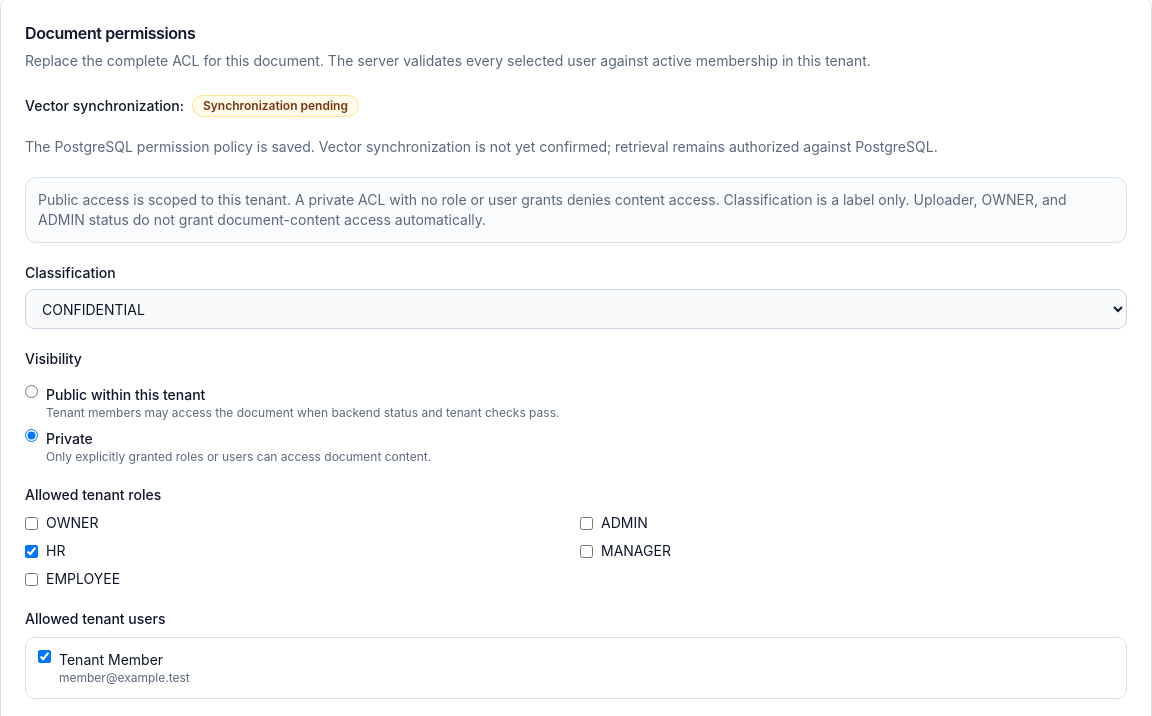
permission editor › retains edits after reconciliation GET failure and allows manual reload without retrying PUT
Select "INTERNAL" in the dropdown labelled "Classification" at [576, 309], box [25, 289, 1127, 329]
(page scrolled)
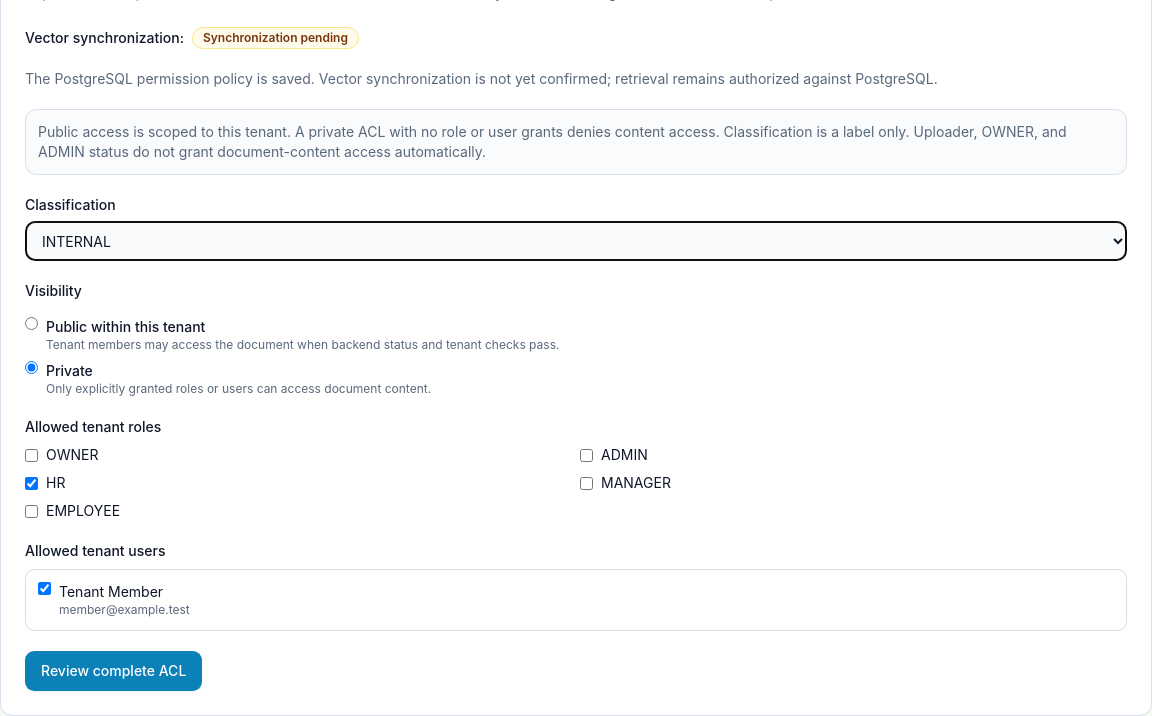
Click the button "Review complete ACL" at [114, 671], box [25, 651, 202, 691]
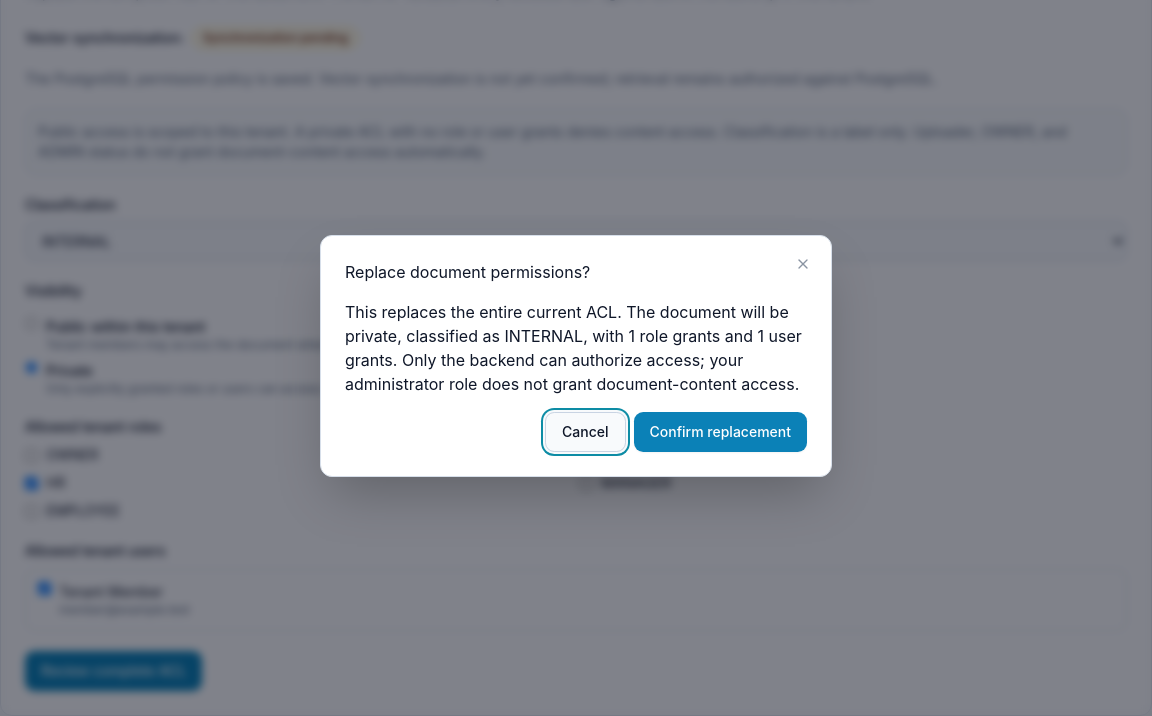
Click the button "Confirm replacement" at [720, 432], box [634, 412, 807, 452]
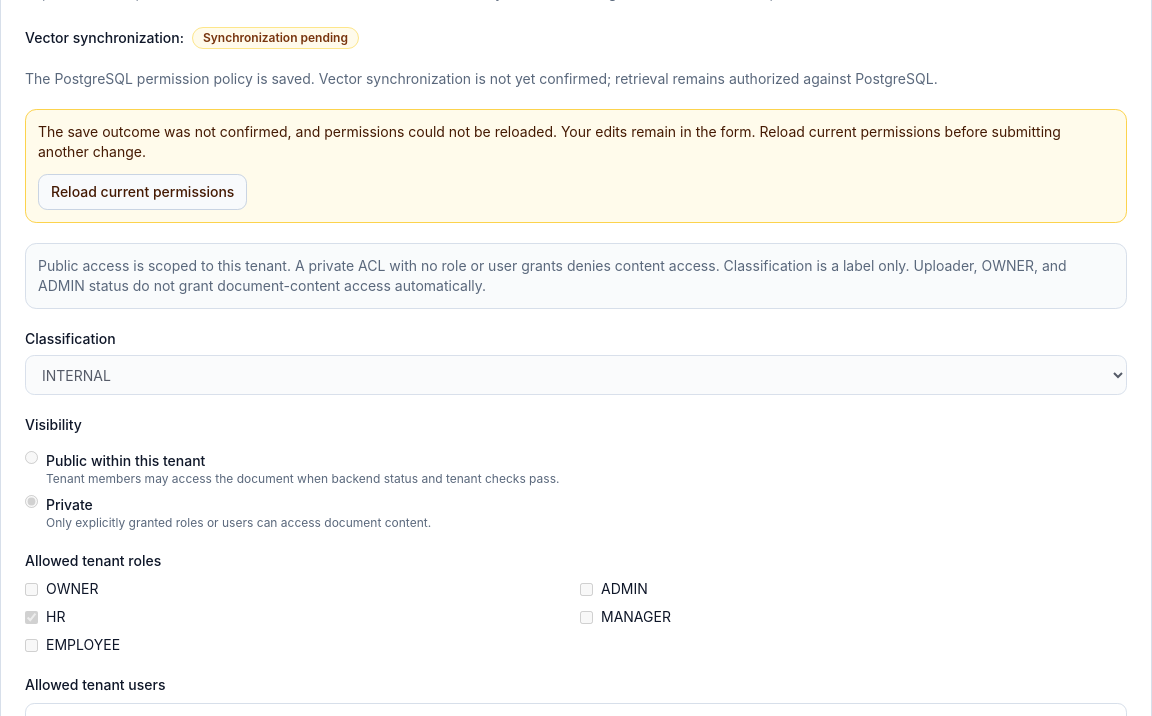
Expected: the button "Reload current permissions" is shown
Expected: the text "Your edits remain in the form" is shown, [38, 123, 1061, 160]
Click the button "Reload current permissions" at [143, 192], box [38, 174, 247, 210]
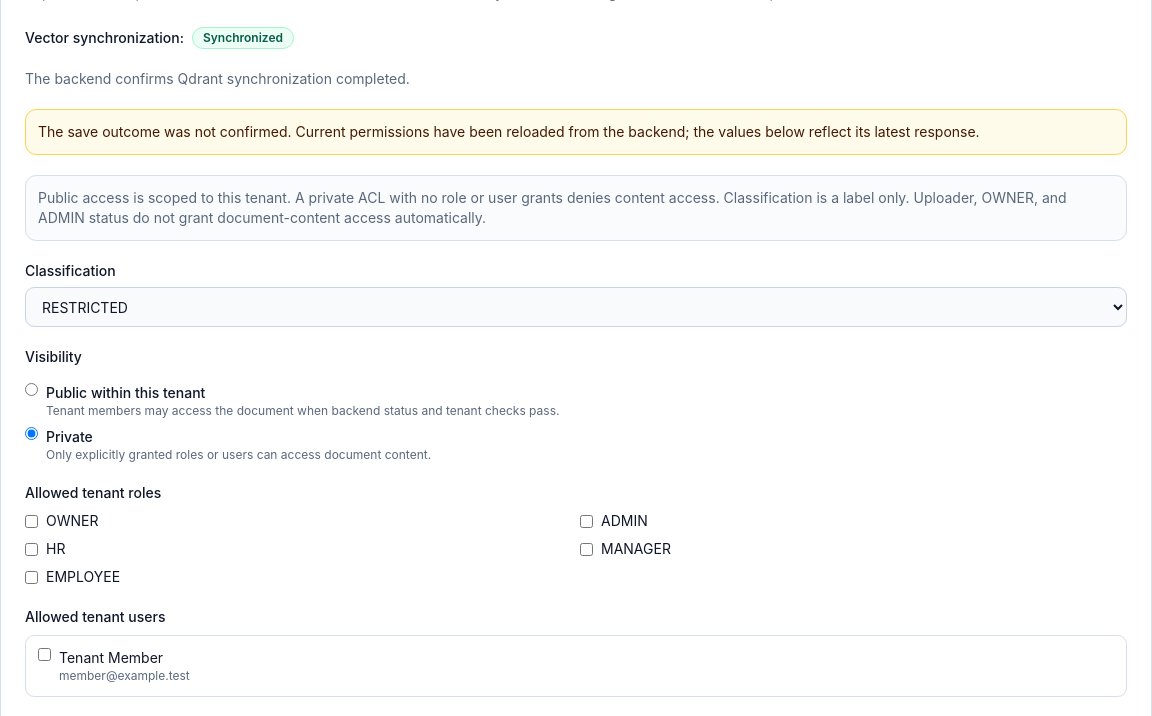
Expected: the text "Current permissions have been reloaded" is shown, [38, 123, 980, 140]
Expected: the text "Synchronized" is shown, [192, 27, 294, 49]
